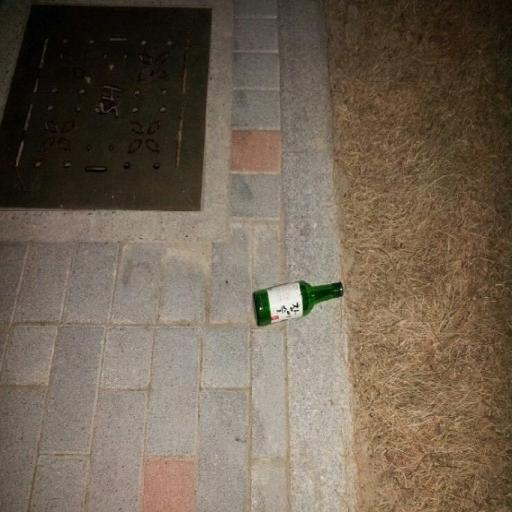glass: (252, 280, 355, 331)
